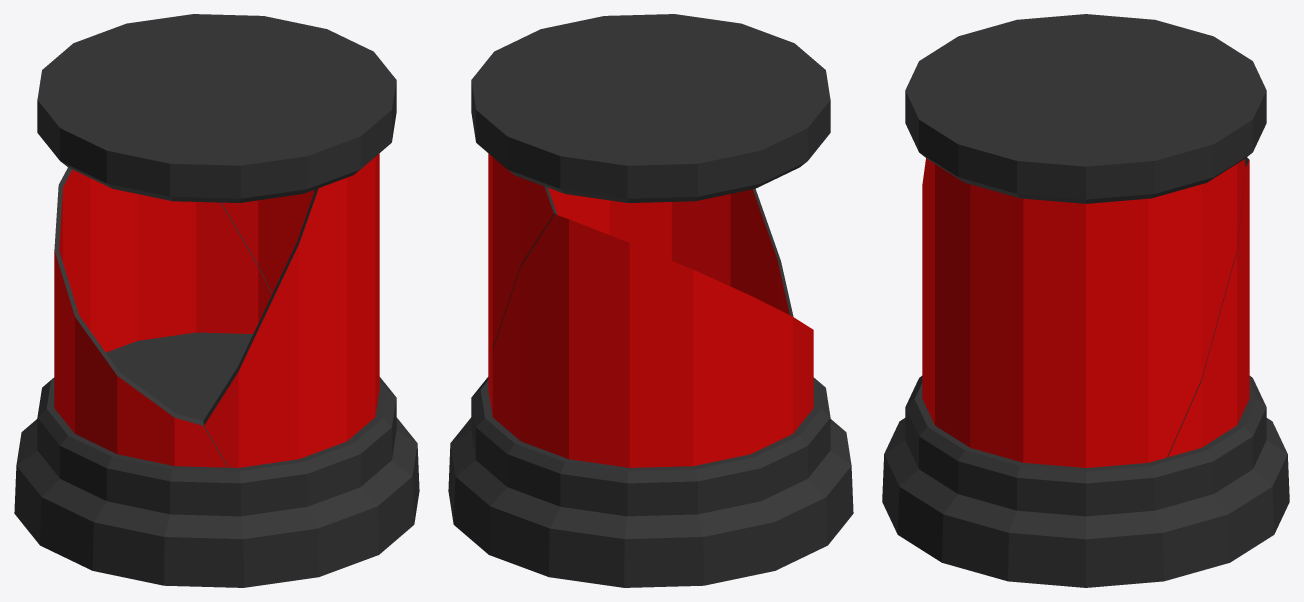
File: HJD_SFB_Capsule_02.fbx
3 renders of one model, left to right at view 1: azimuth 30°, elevation 25°; view 2: azimuth 150°, elevation 25°; view 3: azimuth 270°, elevation 25°, orthographic.
Parts seen in each view (by area): view 1: Base, Glass; view 2: Base, Glass; view 3: Base, Glass.
Boxes of the visible parts, x1=… form: Base: x1=14, y1=14, x2=419, y2=587; Glass: x1=54, y1=153, x2=379, y2=467; Base: x1=448, y1=14, x2=853, y2=587; Glass: x1=488, y1=153, x2=813, y2=467; Base: x1=882, y1=14, x2=1289, y2=587; Glass: x1=922, y1=157, x2=1249, y2=467.
Size of the model in its own units: 89.78 by 100 by 89.78.
